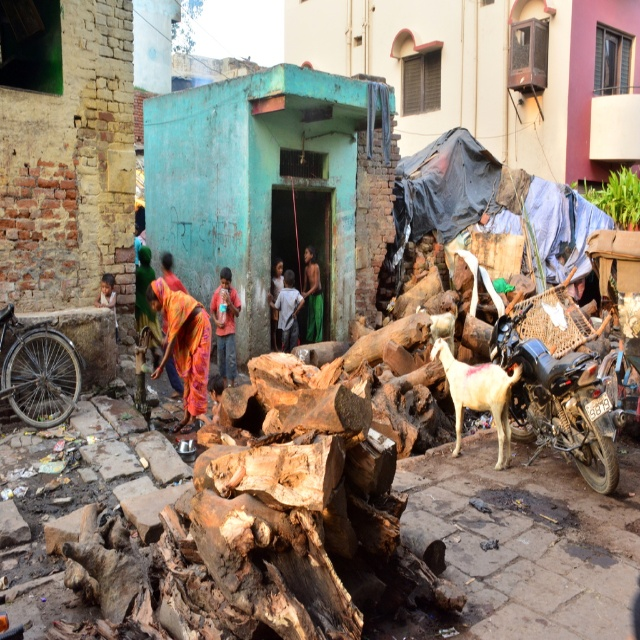Goat: (430, 336, 523, 470)
